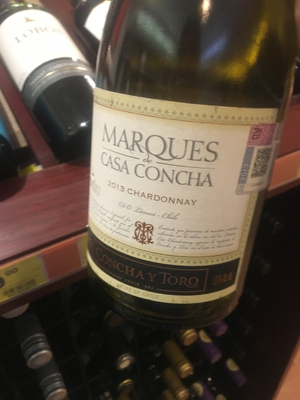marques de casa concha chardonnay: (72, 14, 258, 320)
